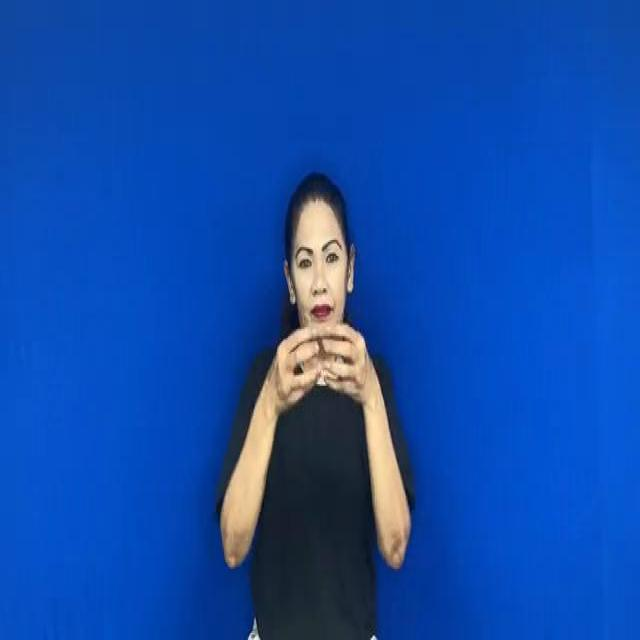egg: (259, 296, 379, 418)
